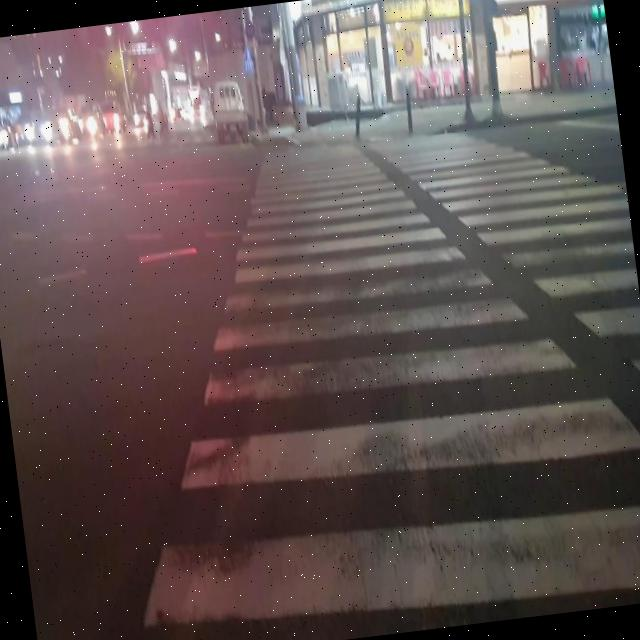crosswalk: (140, 131, 640, 635)
